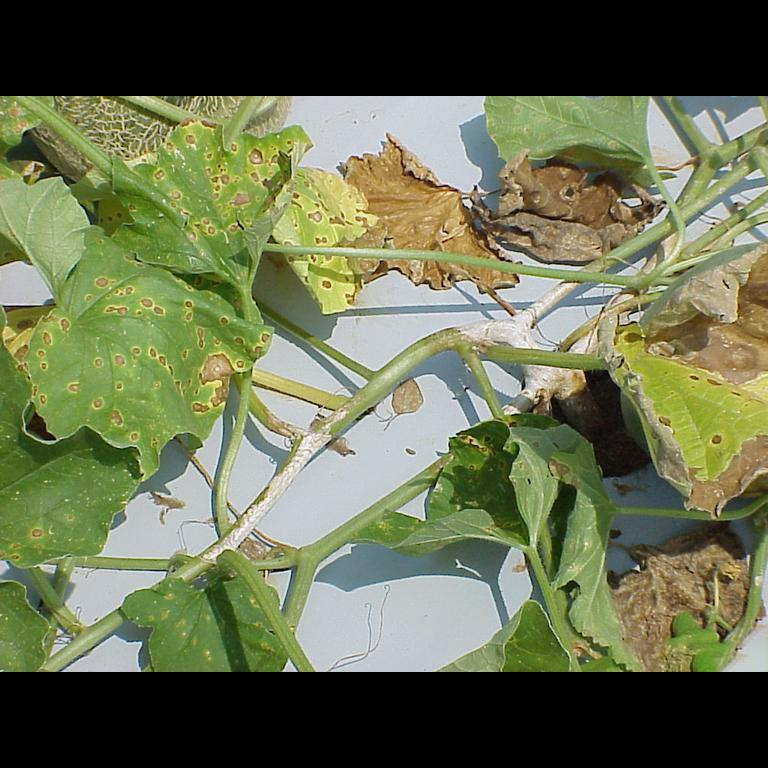blight: (612, 578, 702, 666), (684, 434, 768, 499)
